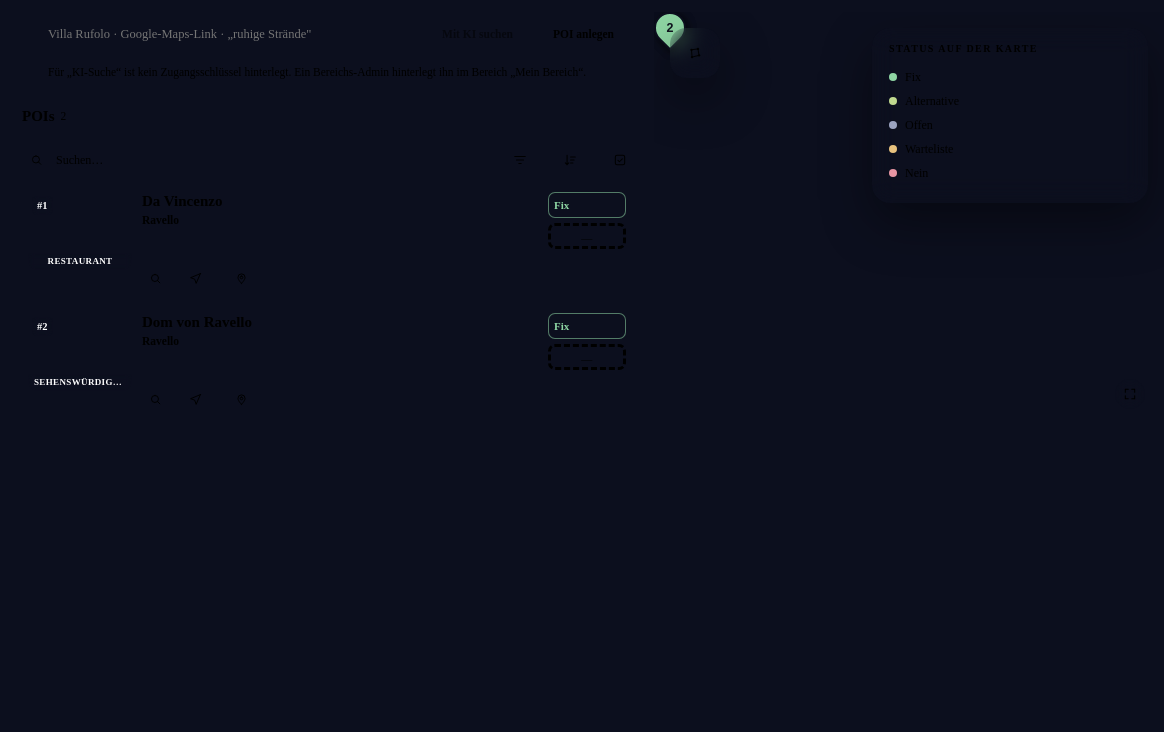
PoisView — der Filter der Liste und die Karte (req-060) › lässt die POIs anderer Typen auf der Karte stehen
Click the button named "Filter" at (520, 160), box [498,138,542,182]
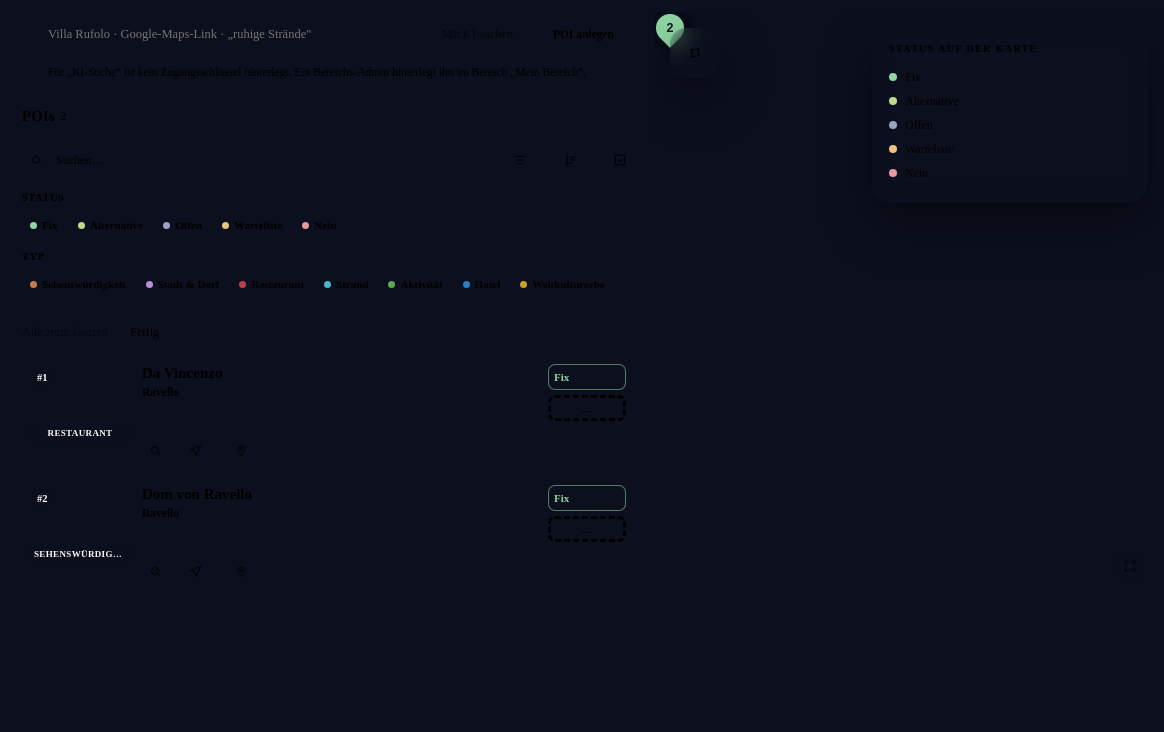
Click the button "Restaurant" at (272, 284), box [232,262,312,306]
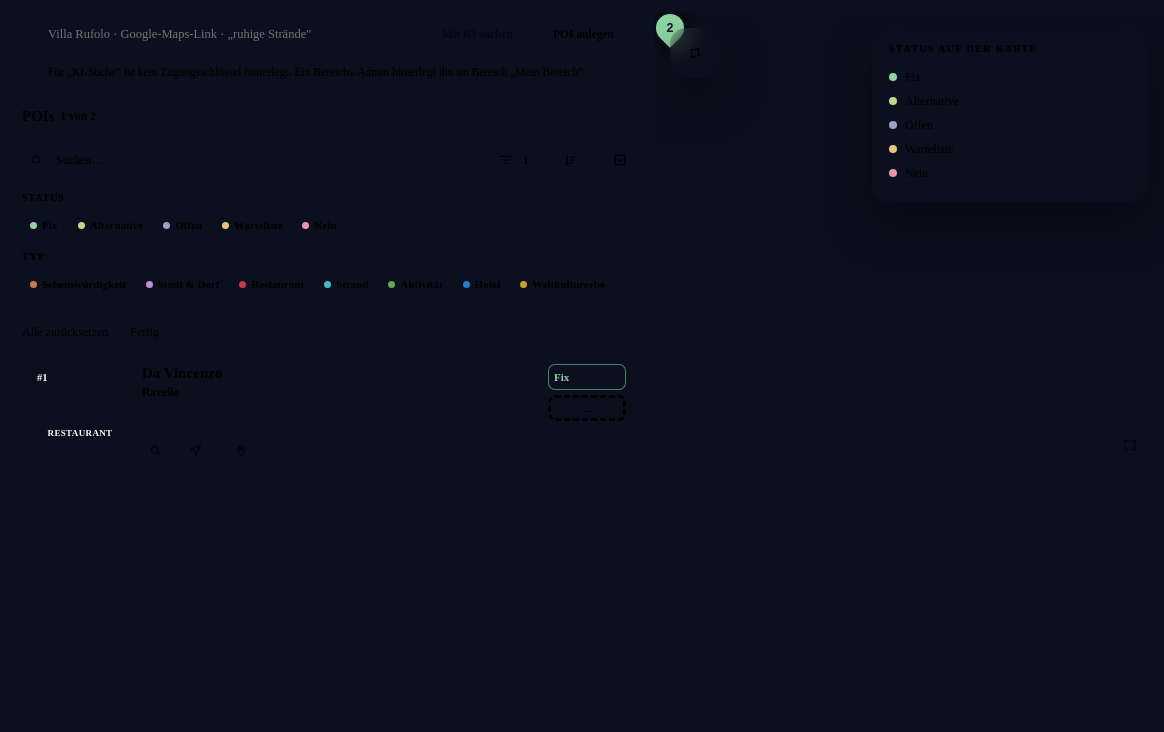
Check: the text "2" is shown, box [666,21,674,35]
Check: the number of list items is 1, box [20,356,634,471]
